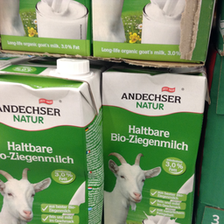milk: (100, 64, 208, 224), (2, 59, 103, 224)
